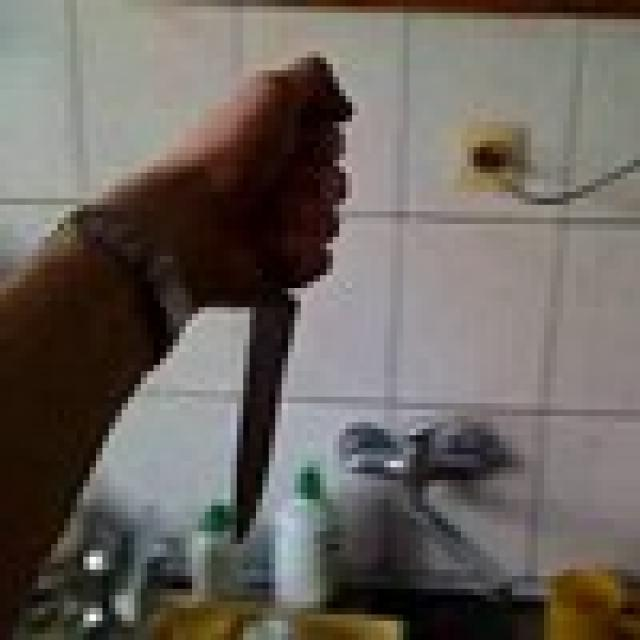Knife: (215, 70, 356, 538)
